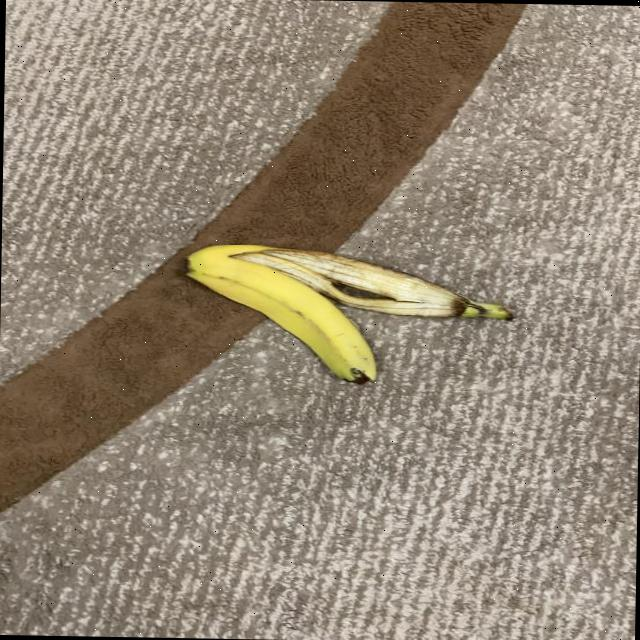banana-peel: (181, 241, 379, 385), (230, 242, 514, 322)
